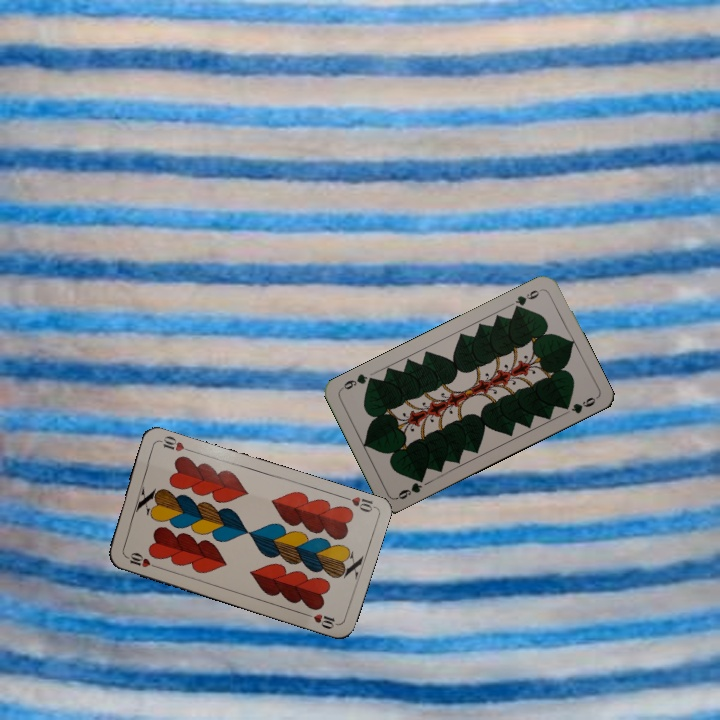G9: (392, 472, 427, 502), (510, 285, 544, 314)
H10: (337, 491, 377, 515), (120, 548, 160, 570)
